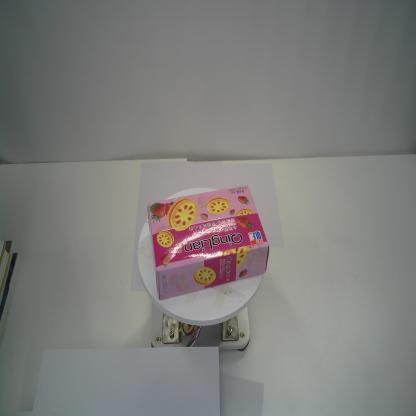Dessert: (148, 184, 270, 301)
